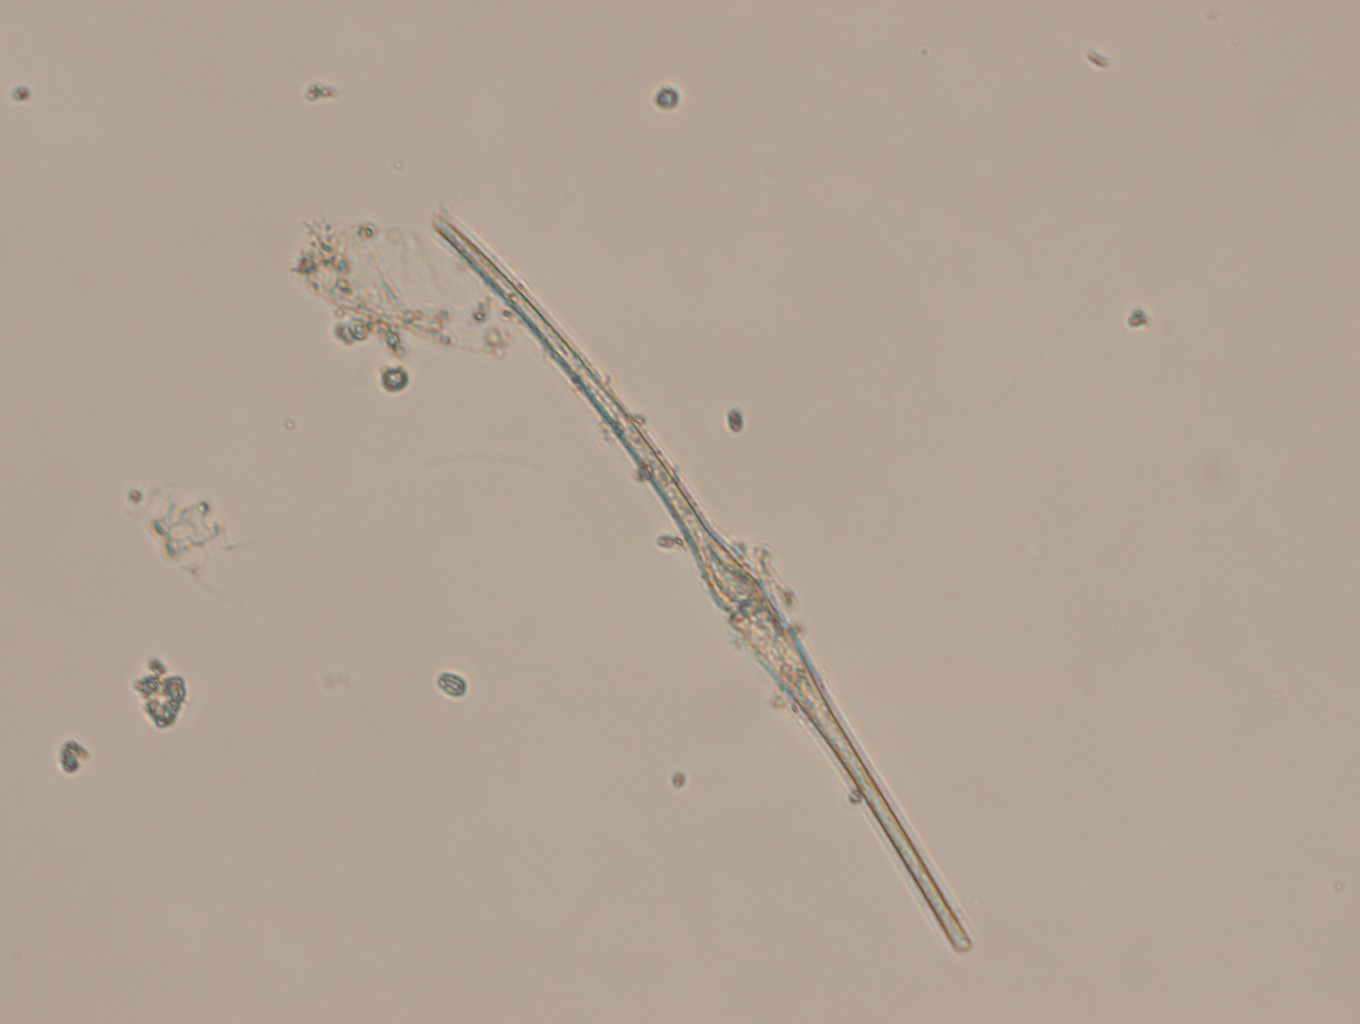ceratium fusus: (423, 204, 975, 954)
